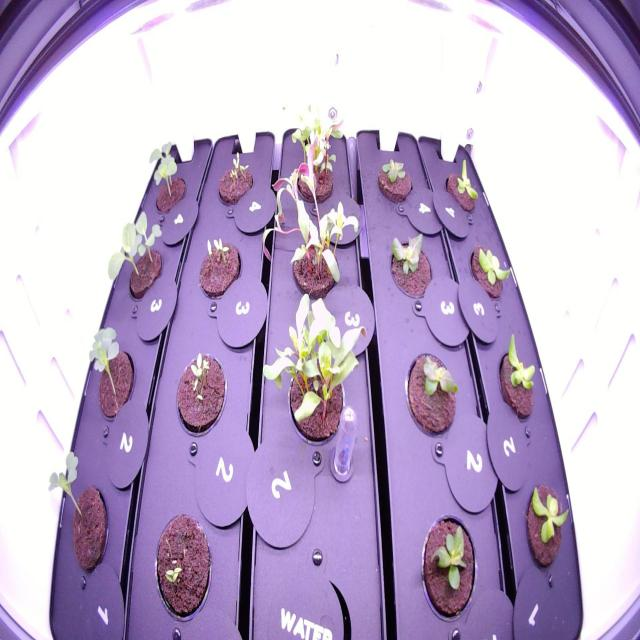germination: (40, 443, 117, 587), (148, 507, 215, 628), (104, 206, 169, 311), (84, 318, 138, 427), (169, 347, 230, 441), (141, 137, 187, 217), (192, 232, 243, 304), (210, 147, 256, 212)
young: (414, 506, 485, 629), (520, 474, 573, 589), (397, 346, 460, 441), (382, 227, 436, 311), (494, 328, 539, 428), (464, 238, 515, 307), (439, 154, 483, 224), (374, 152, 416, 210)
